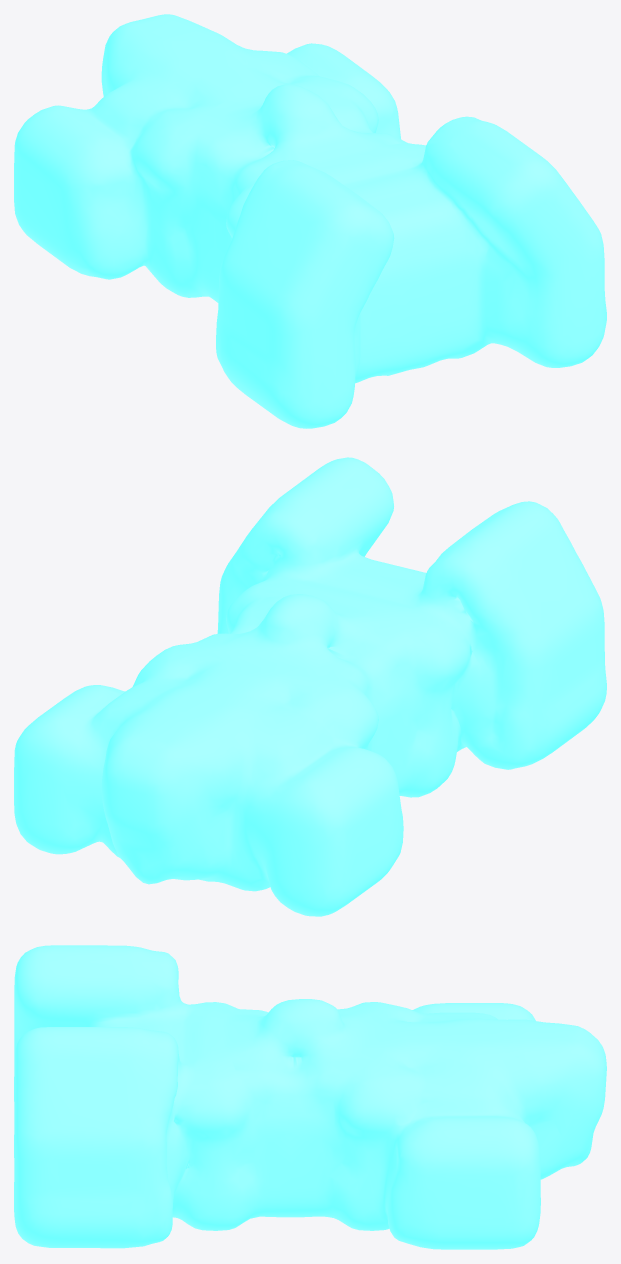
The model's file is corinth_cargo_transported_shield.glb.
3 views of the same model, one above another, from view 1: azimuth 30°, elevation 25°; view 2: azimuth 150°, elevation 25°; view 3: azimuth 270°, elevation 25° (orthographic). The views are drawn at different scales.
Visible parts, largest first — view 1: Energy_Shield; view 2: Energy_Shield; view 3: Energy_Shield.
Part boxes in pixels (x1,y1,x2,y2): Energy_Shield: [14, 14, 606, 428]; Energy_Shield: [14, 457, 606, 916]; Energy_Shield: [14, 945, 606, 1249].
Bounding box in the file's own units: 4.28 × 2.72 × 7.11.
